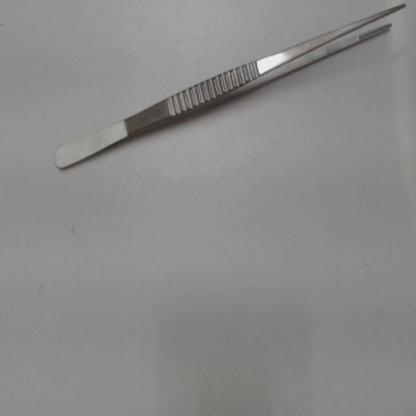DeBakey Dissector: (51, 2, 411, 188)
